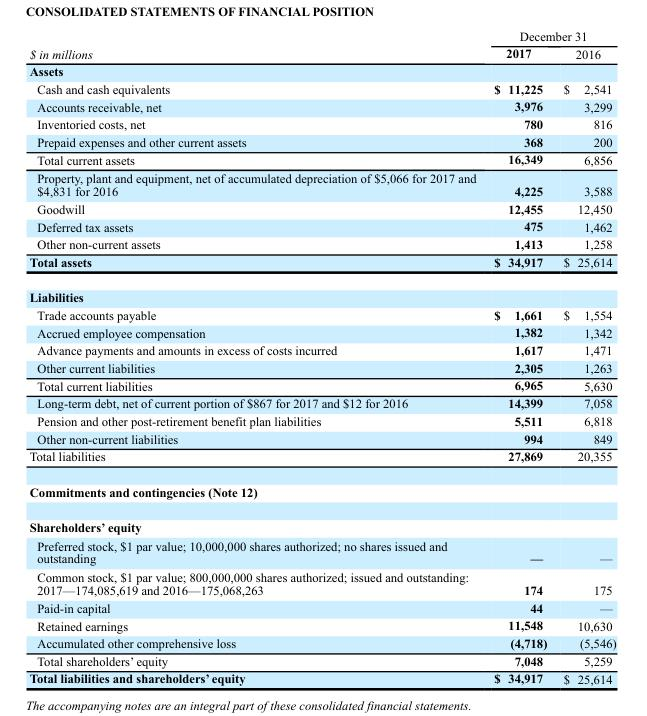table: (28, 28, 615, 685)
table column: (28, 28, 484, 685), (484, 28, 554, 685), (554, 28, 615, 685)
table column header: (28, 28, 615, 62)
table projected row header: (28, 473, 615, 508), (28, 508, 615, 536), (28, 279, 615, 305), (28, 62, 615, 79)
table row: (28, 473, 615, 508), (28, 168, 615, 199), (28, 536, 615, 567), (28, 567, 615, 598), (28, 508, 615, 536), (28, 252, 615, 279), (28, 279, 615, 305), (28, 447, 615, 473), (28, 44, 615, 62), (28, 79, 615, 97), (28, 97, 615, 115), (28, 132, 615, 150), (28, 150, 615, 168), (28, 199, 615, 217), (28, 217, 615, 235), (28, 305, 615, 323), (28, 323, 615, 341), (28, 358, 615, 376), (28, 376, 615, 394), (28, 411, 615, 429), (28, 429, 615, 447), (28, 598, 615, 616), (28, 633, 615, 651), (28, 651, 615, 669), (28, 62, 615, 79), (28, 115, 615, 132), (28, 235, 615, 252), (28, 341, 615, 358), (28, 394, 615, 411), (28, 616, 615, 633), (28, 28, 615, 44), (28, 669, 615, 685)
table spanning cell: (28, 28, 484, 62), (484, 28, 615, 44)
